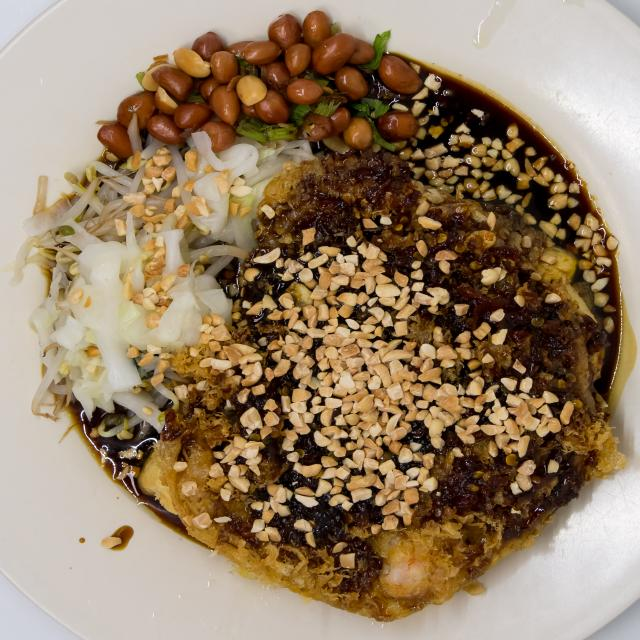Tahu-Telur: (7, 1, 614, 603)
